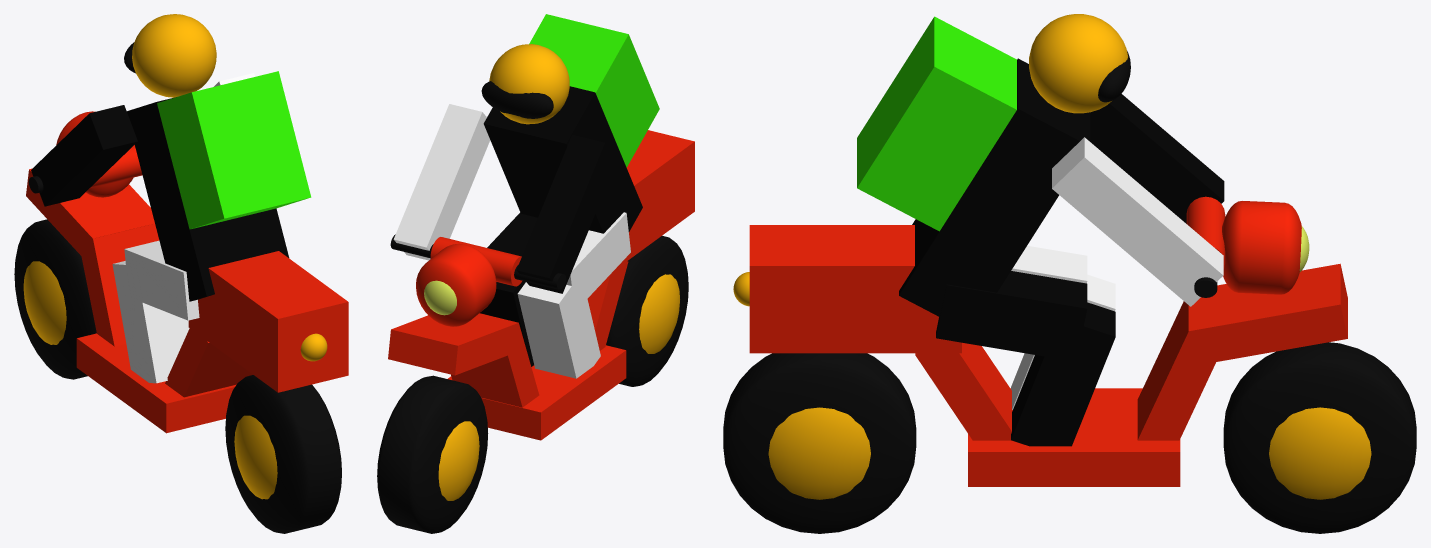
Rendered from deliveryDude_NoLights.fbx.
The picture shows the model from 3 angles, left to right: view 1: azimuth 30°, elevation 25°; view 2: azimuth 150°, elevation 25°; view 3: azimuth 270°, elevation 25°; orthographic projection. The views are drawn at different scales.
Visible parts, largest first — view 1: foodBag, base__1_, Capsule, upperBody, Capsule_1, base, rightHand, helmet, leftLeg__1_, base__4_, base__3_, leftLeg (+6 smaller); view 2: Capsule_1, upperBody, foodBag, rightHand, leftHand, base__1_, Capsule, leftLeg__1_, base, base__4_, headLight, helmet (+11 smaller); view 3: Capsule_1, base__1_, Capsule, foodBag, upperBody, base, leftHand, base__4_, rightLeg, rightLeg__1_, rightHand, Sphere_1 (+9 smaller).
Boxes of the visible parts, x1,y1,x2,y2 form: foodBag: (157, 71, 311, 229); base__1_: (188, 251, 348, 392); Capsule: (225, 375, 341, 533); upperBody: (127, 97, 289, 301); Capsule_1: (14, 219, 96, 379); base: (76, 333, 236, 433); rightHand: (31, 105, 137, 206); helmet: (132, 14, 216, 97); leftLeg__1_: (112, 261, 189, 383); base__4_: (26, 168, 154, 261); base__3_: (78, 223, 159, 346); leftLeg: (124, 240, 199, 320); Capsule_1: (377, 375, 488, 533); upperBody: (483, 86, 642, 233); foodBag: (529, 14, 659, 167); rightHand: (516, 134, 618, 293); leftHand: (393, 104, 490, 260); base__1_: (618, 130, 694, 266); Capsule: (606, 235, 688, 386); leftLeg__1_: (517, 278, 600, 378); base: (448, 345, 626, 440); base__4_: (388, 313, 518, 375); headLight: (416, 243, 496, 326); helmet: (489, 44, 569, 124); Capsule_1: (1223, 342, 1416, 533); base__1_: (749, 225, 961, 353); Capsule: (723, 353, 916, 533); foodBag: (857, 16, 1016, 231); upperBody: (899, 58, 1090, 316); base: (968, 388, 1180, 486); leftHand: (1052, 137, 1223, 306); base__4_: (1189, 263, 1347, 365); rightLeg: (936, 271, 1087, 356); rightLeg__1_: (1011, 302, 1115, 446); rightHand: (1090, 94, 1224, 223); Sphere_1: (1269, 407, 1371, 499).
Size of the model in its own units: 402 by 938 by 1164.
